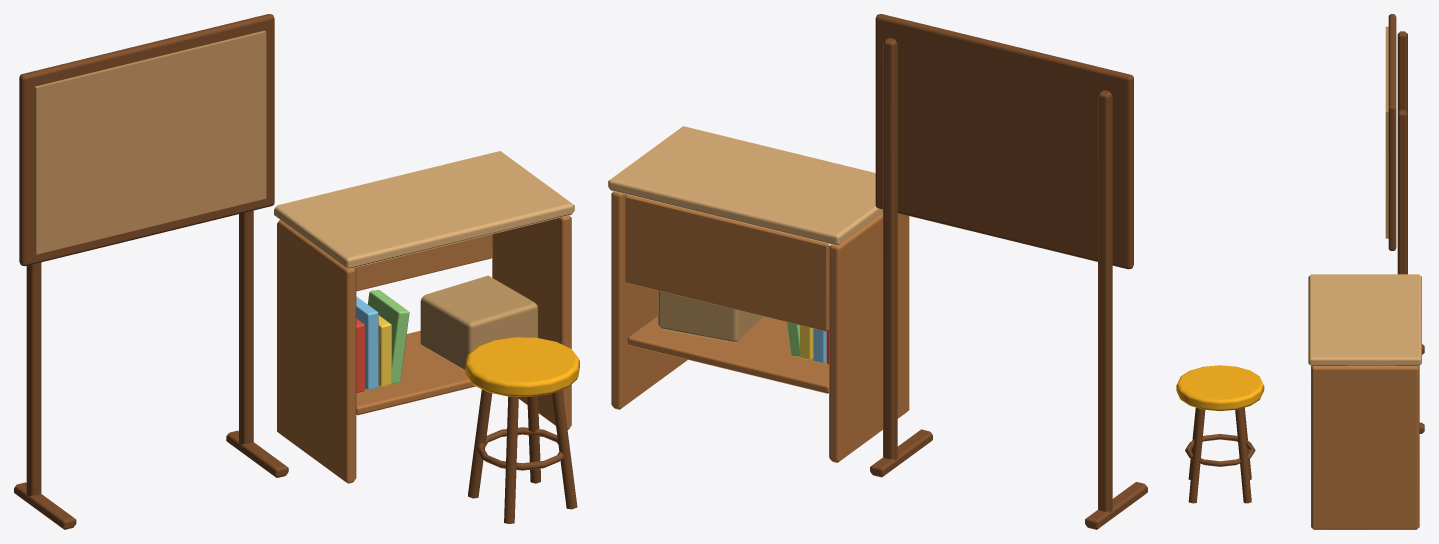
Rendered from station_intake_basis.glb.
The picture shows the model from 3 angles, left to right: view 1: azimuth 30°, elevation 25°; view 2: azimuth 150°, elevation 25°; view 3: azimuth 270°, elevation 25°; orthographic projection. The views are drawn at different scales.
Parts seen in each view (by area): view 1: station_intake_basis; view 2: station_intake_basis; view 3: station_intake_basis.
Part boxes in pixels (x1,y1,x2,y2): station_intake_basis: (14, 14, 579, 529); station_intake_basis: (608, 14, 1147, 529); station_intake_basis: (1176, 14, 1424, 529).
Bounding box in the file's own units: 1.7 × 1.42 × 0.96.
